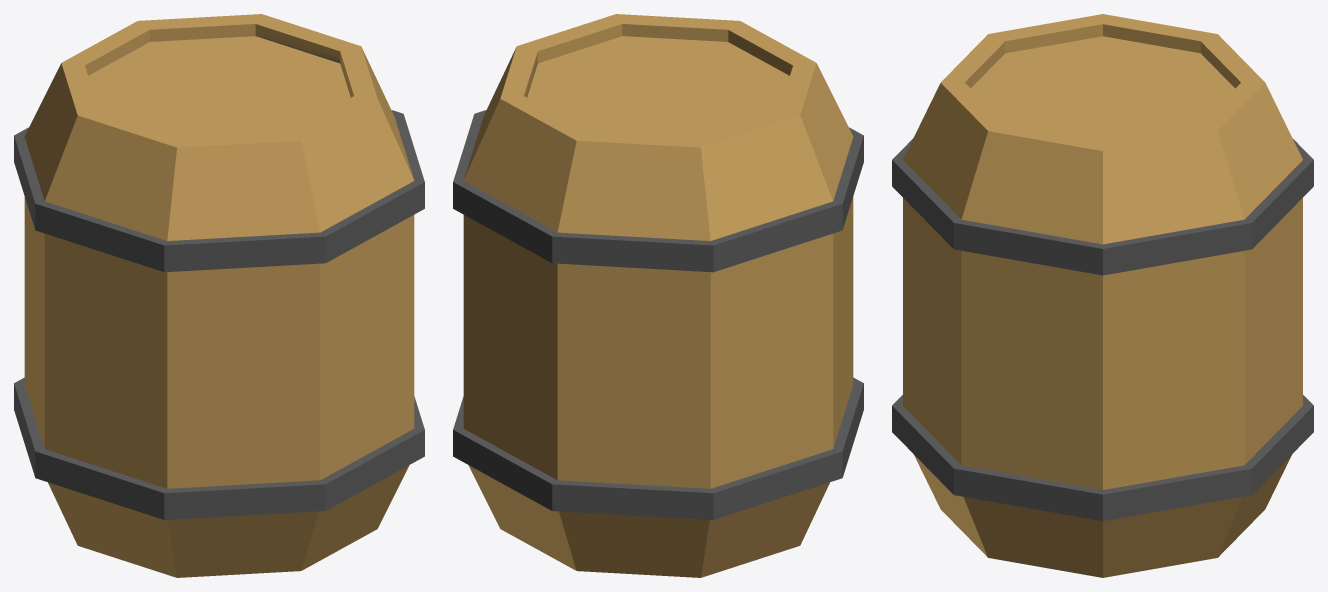
File: Barrel.fbx
3 views of the same model, side by side, from view 1: azimuth 30°, elevation 25°; view 2: azimuth 150°, elevation 25°; view 3: azimuth 270°, elevation 25° (orthographic).
Visible parts, largest first — view 1: Cylinder.002; view 2: Cylinder.002; view 3: Cylinder.002.
Boxes of the visible parts, <box> form: Cylinder.002: <box>14,14,424,577</box>; Cylinder.002: <box>453,14,863,577</box>; Cylinder.002: <box>892,14,1313,577</box>.
Size of the model in its own units: 77.93 by 87 by 77.93.
Materials: 1 (1 with a texture image).
